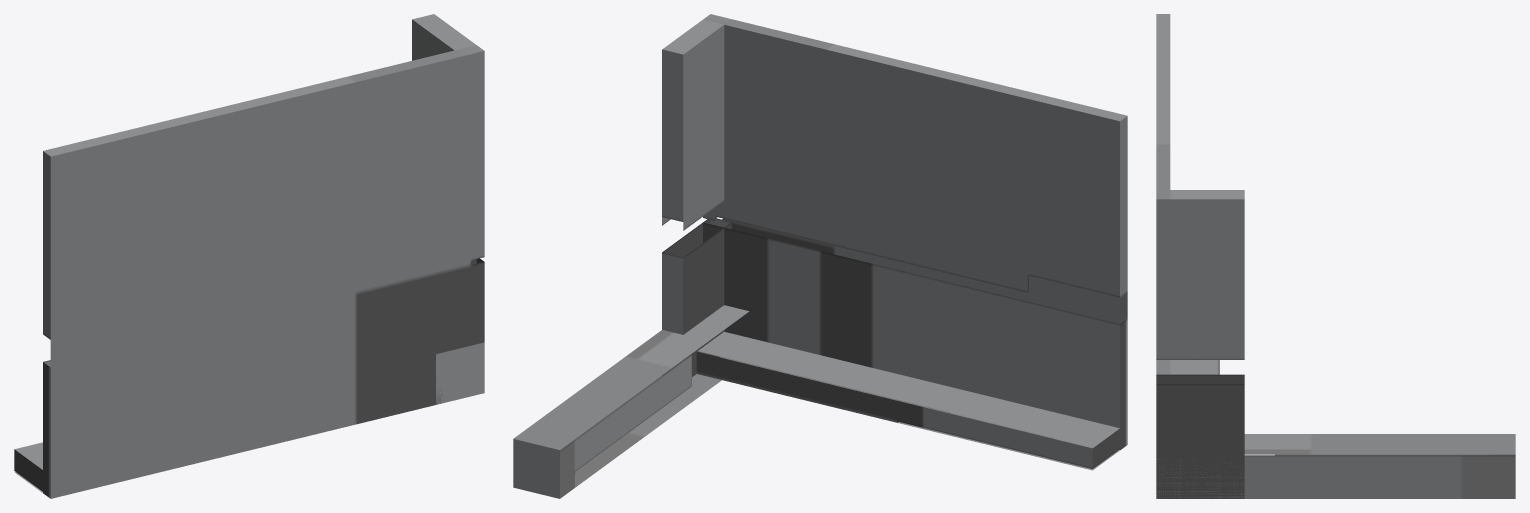
3 renders of one model, left to right at view 1: azimuth 30°, elevation 25°; view 2: azimuth 150°, elevation 25°; view 3: azimuth 270°, elevation 25°, orthographic. The views are drawn at different scales.
Size of the model in its own units: 0.9988 by 0.7531 by 0.8185.
